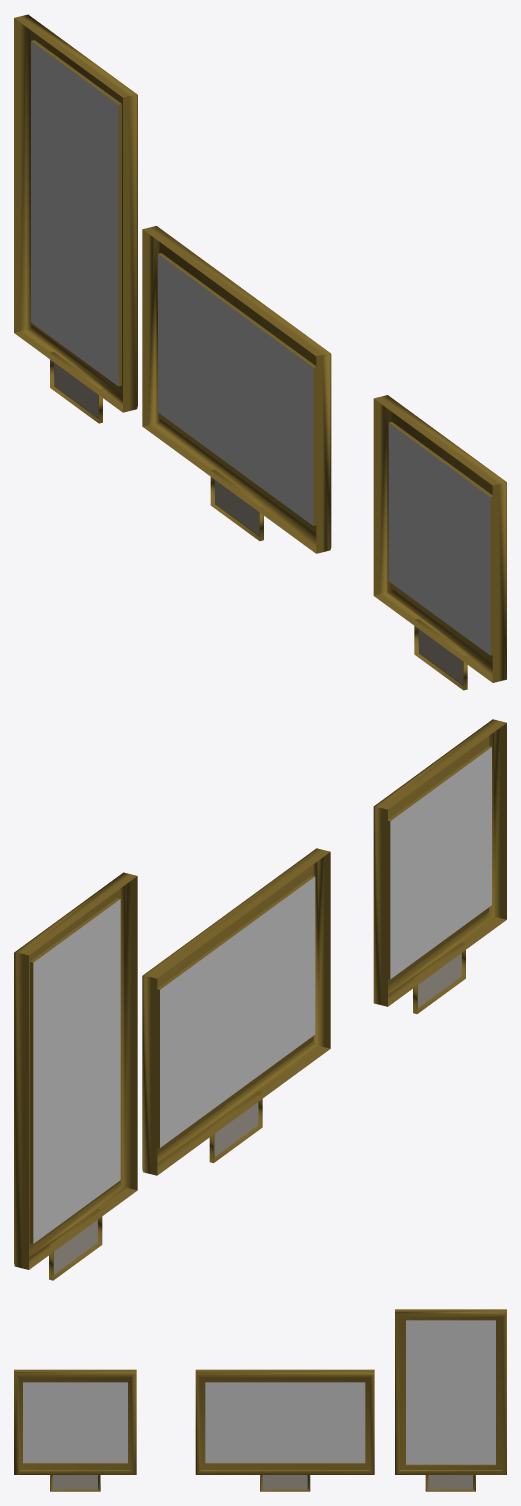
The model's file is Wood frame 1.fbx.
3 views of the same model, one above another, from view 1: azimuth 30°, elevation 25°; view 2: azimuth 150°, elevation 25°; view 3: azimuth 270°, elevation 25° (orthographic). The views are drawn at different scales.
Parts seen in each view (by area): view 1: frame_vertic, frame_horizont, frame_horizont1, sign_below2, sign_below, sign_below1; view 2: frame_vertic, frame_horizont, frame_horizont1, sign_below, sign_below1, sign_below2; view 3: frame_horizont, frame_vertic, frame_horizont1, sign_below, sign_below1, sign_below2.
Boxes of the visible parts, x1,y1,x2,y2 form: frame_vertic: (14, 14, 137, 412); frame_horizont: (142, 226, 331, 553); frame_horizont1: (373, 395, 506, 682); sign_below2: (414, 619, 467, 690); sign_below: (210, 469, 263, 541); sign_below1: (50, 352, 102, 423); frame_vertic: (14, 872, 137, 1269); frame_horizont: (142, 848, 330, 1175); frame_horizont1: (373, 719, 506, 1006); sign_below: (209, 1091, 262, 1163); sign_below1: (49, 1209, 102, 1280); sign_below2: (413, 942, 465, 1013); frame_horizont: (195, 1369, 374, 1474); frame_vertic: (395, 1309, 506, 1474); frame_horizont1: (14, 1369, 136, 1474); sign_below: (260, 1475, 310, 1491); sign_below1: (425, 1475, 475, 1491); sign_below2: (50, 1475, 100, 1491).
Bounding box in the file's own units: 0.5655 × 11.66 × 28.97.
